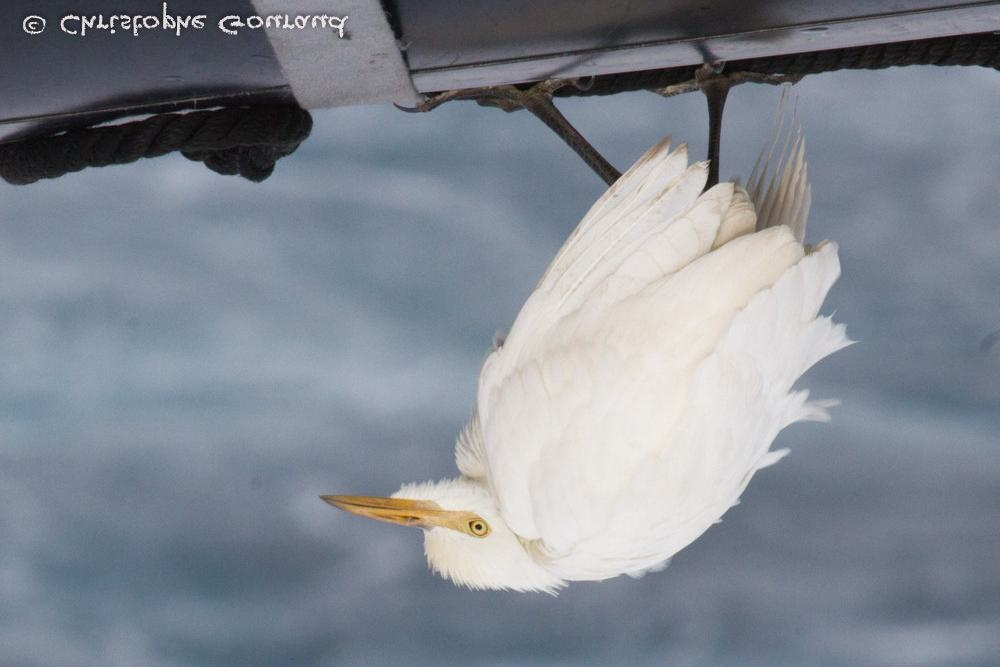egret: (318, 133, 876, 594)
